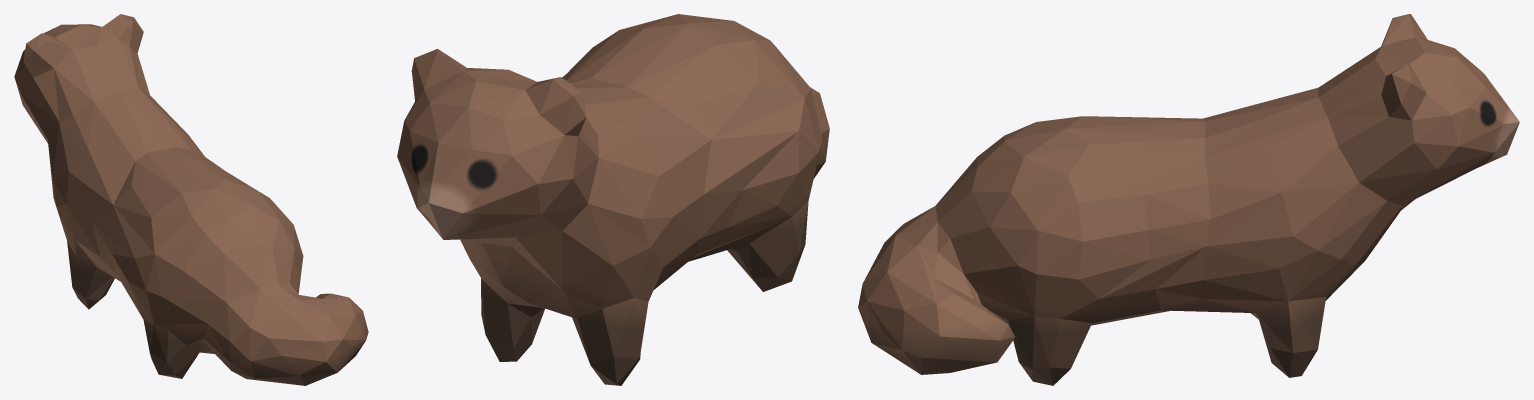
The model's file is animal_mink_blob.obj.
3 views of the same model, side by side, from view 1: azimuth 30°, elevation 25°; view 2: azimuth 150°, elevation 25°; view 3: azimuth 270°, elevation 25° (orthographic). The views are drawn at different scales.
Visible parts, largest first — view 1: animal_mink_blob; view 2: animal_mink_blob; view 3: animal_mink_blob.
Part boxes in pixels (left/top/right/bottom): animal_mink_blob: left=14, top=14, right=368, bottom=385; animal_mink_blob: left=397, top=14, right=829, bottom=385; animal_mink_blob: left=858, top=14, right=1519, bottom=385.
Size of the model in its own units: 0.3771 by 0.4835 by 0.9203.
